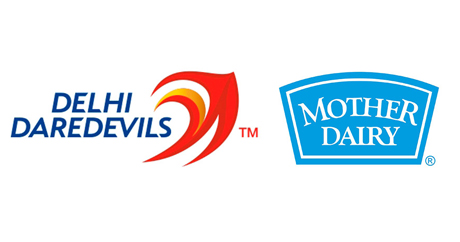Mother_Dairy: (274, 66, 452, 175)
